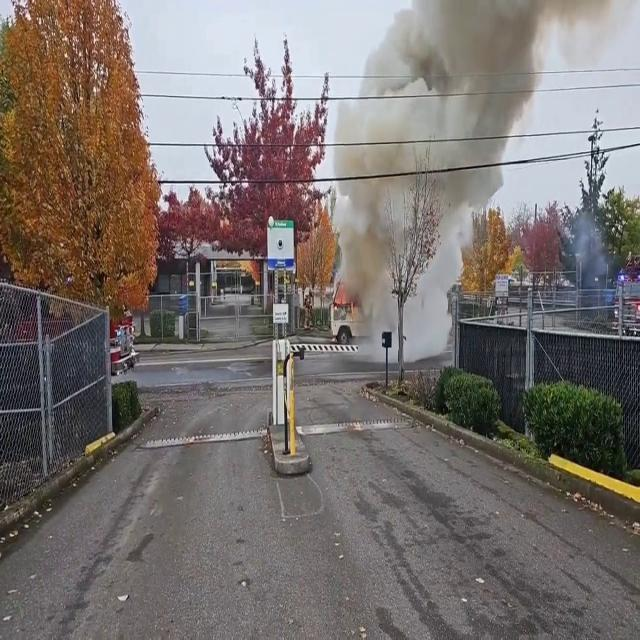Smoke: (326, 0, 570, 317)
